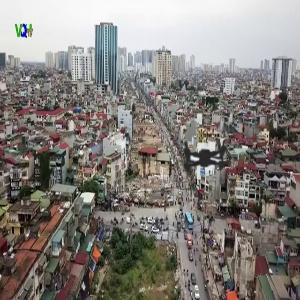drone: (138, 88, 284, 234)
